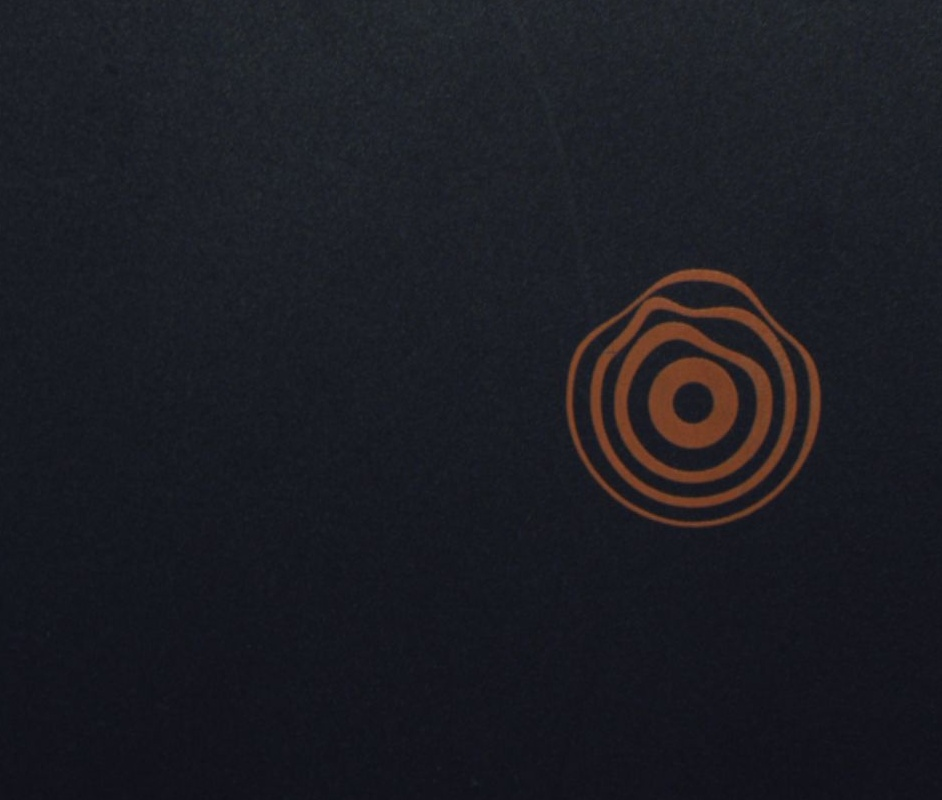BU_HG680GY: (555, 265, 826, 530)
